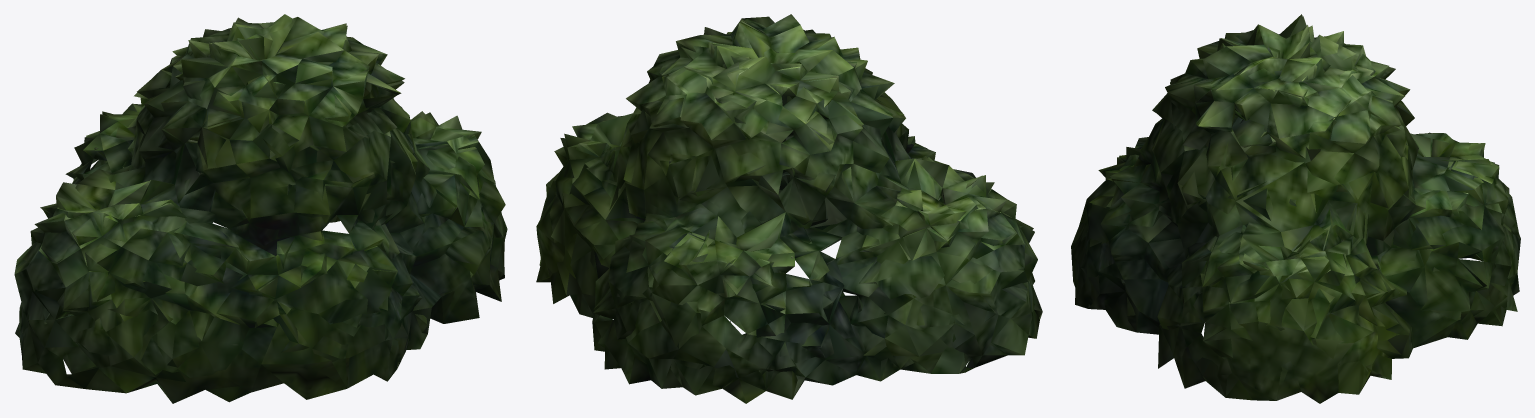
The model's file is bush-2.glb.
3 renders of one model, left to right at view 1: azimuth 30°, elevation 25°; view 2: azimuth 150°, elevation 25°; view 3: azimuth 270°, elevation 25°, orthographic. The views are drawn at different scales.
Visible parts, largest first — view 1: terrain-bush-2; view 2: terrain-bush-2; view 3: terrain-bush-2.
Part boxes in pixels (x1,y1,x2,y2): terrain-bush-2: [14, 14, 507, 403]; terrain-bush-2: [536, 14, 1042, 403]; terrain-bush-2: [1071, 14, 1520, 403].
Bounding box in the file's own units: 0.3647 × 0.1998 × 0.309.
1 material, 1 textured.
